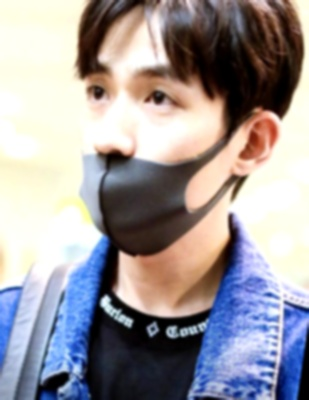mask_weared_incorrect: (66, 1, 245, 253)
